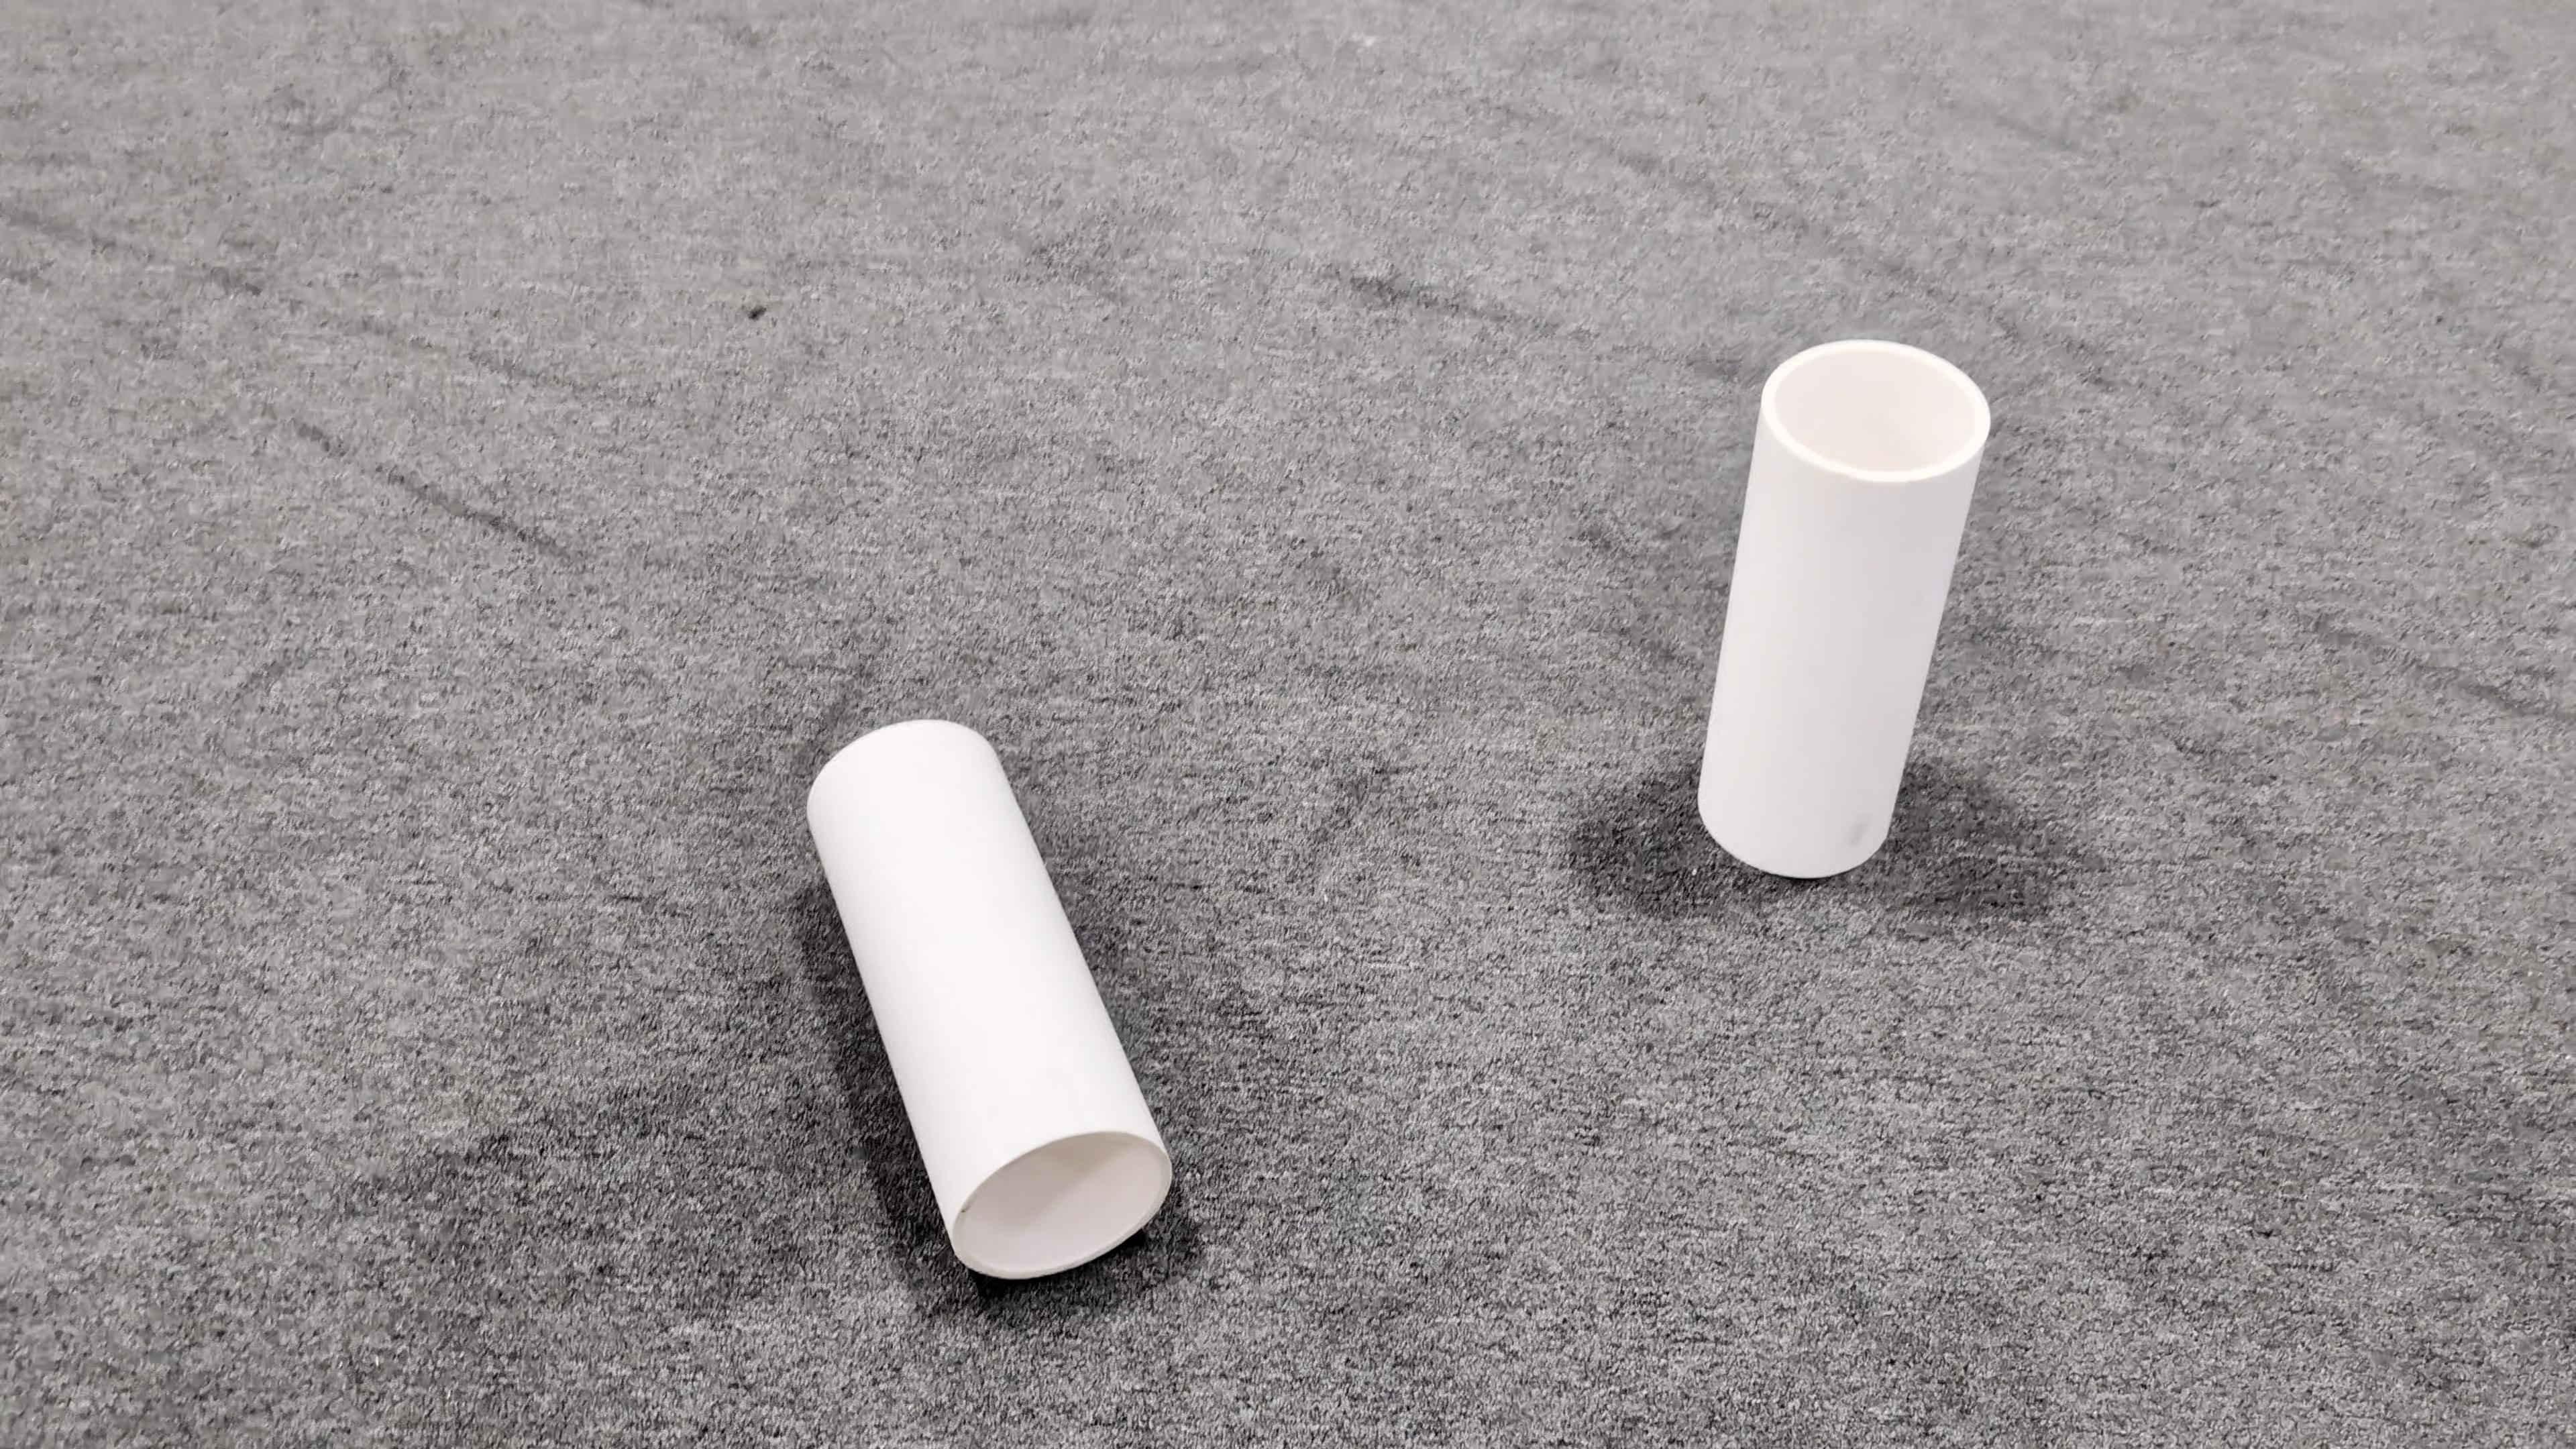coral: (810, 720, 1171, 1281), (1697, 340, 1992, 878)
